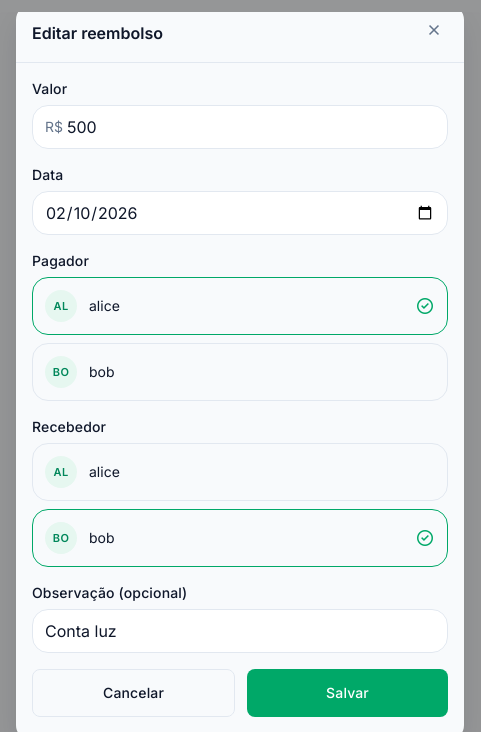
Test case: EditarReembolsoModal — validação › exibe erro se pagador = recebedor
The width and height of the screenshot is (481, 732).
Note: Change recebedor to be the same as pagador (user-a)
Click the button "AL alice" below "Recebedor": (61, 472) 32,442 -> 448,500
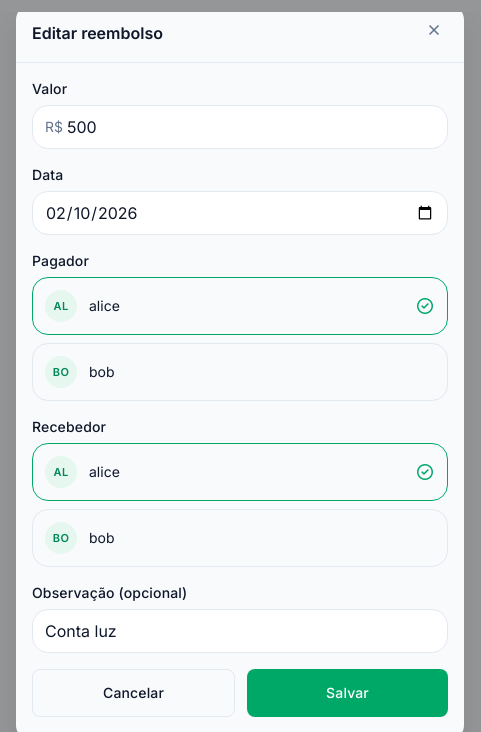
Submit the form showing "500"
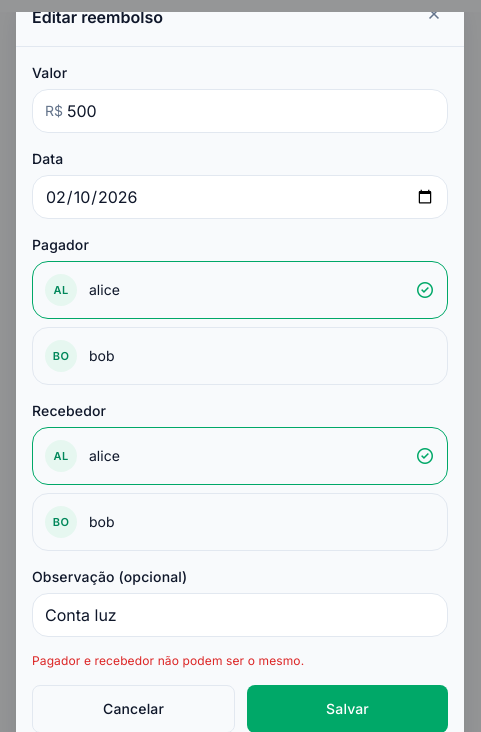
expect the text "Pagador e recebedor não podem ser o mesmo." is shown: met, box 32,652 -> 304,668
